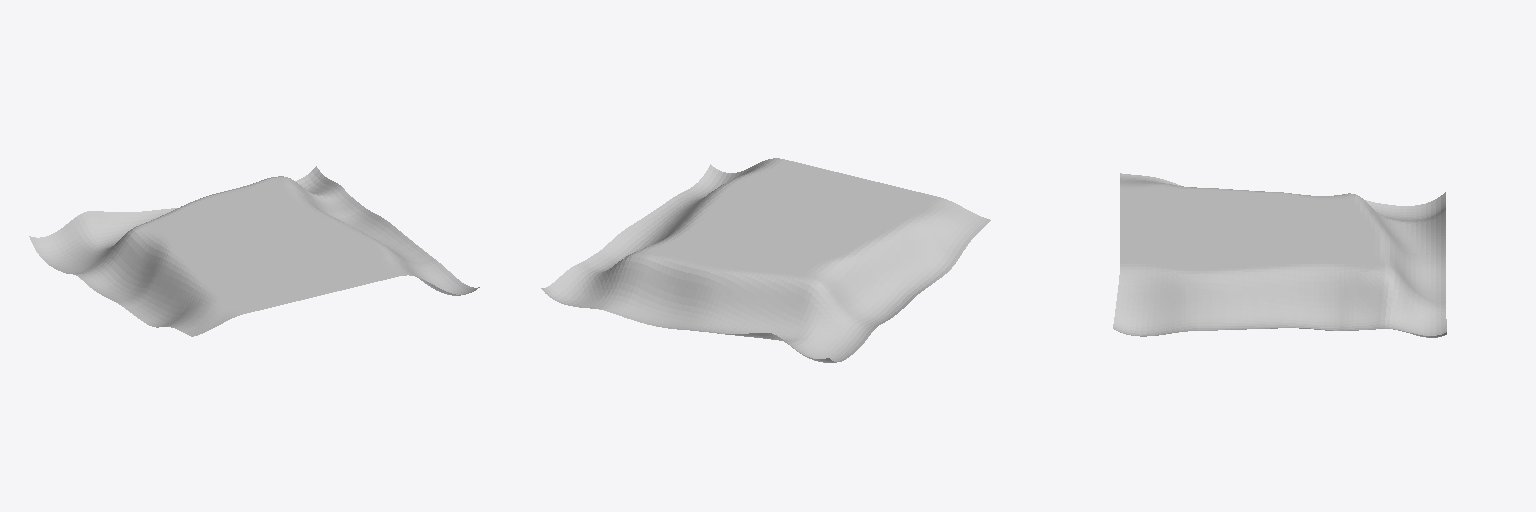
File: ccontinent.obj
3 views of the same model, side by side, from view 1: azimuth 30°, elevation 25°; view 2: azimuth 150°, elevation 25°; view 3: azimuth 270°, elevation 25° (orthographic).
Visible parts, largest first — view 1: Plane; view 2: Plane; view 3: Plane.
Part boxes in pixels (bbox=[...]): Plane: bbox=[29, 166, 479, 336]; Plane: bbox=[541, 158, 990, 362]; Plane: bbox=[1113, 173, 1446, 337].
Bounding box in the file's own units: 16.51 × 2.49 × 16.61.